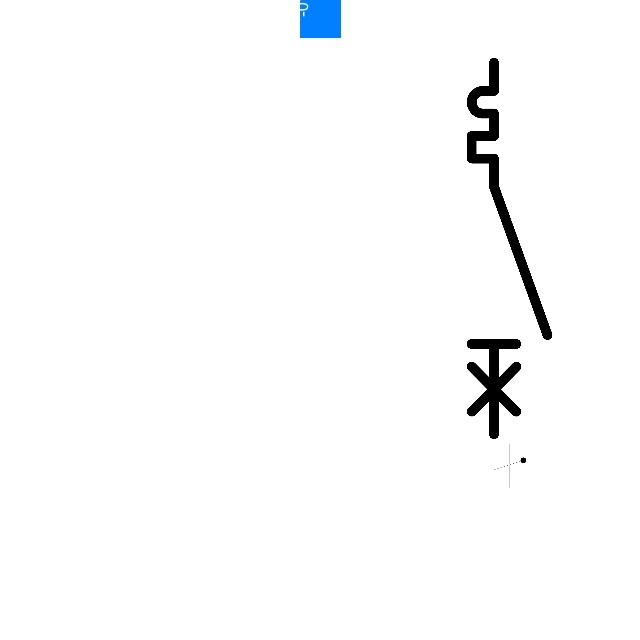interruptor_termomagnetico: (462, 53, 557, 444)
